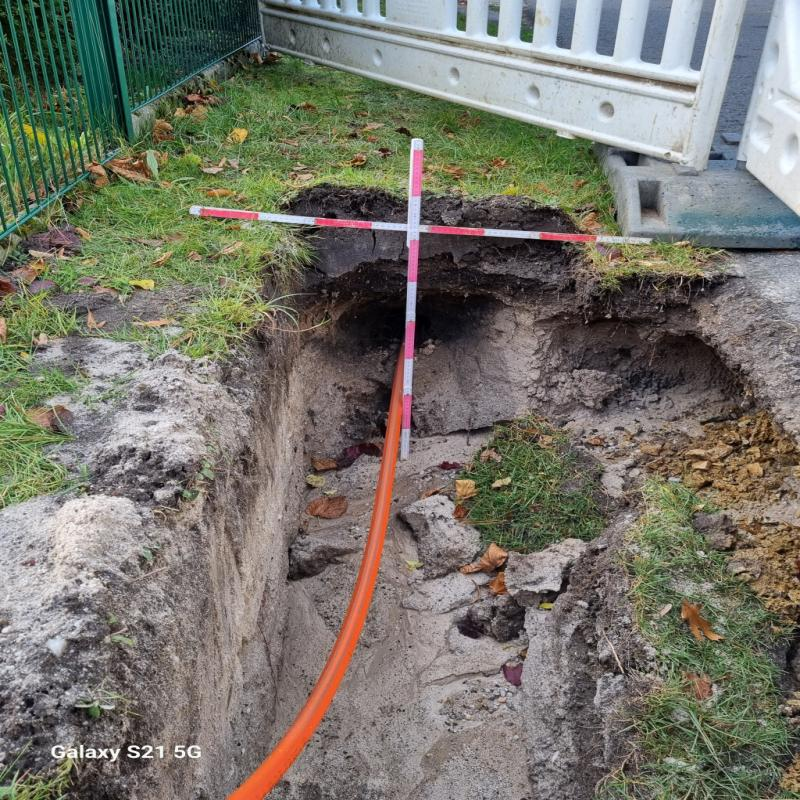Orang-Speednetrohrchen: (227, 343, 402, 800)
